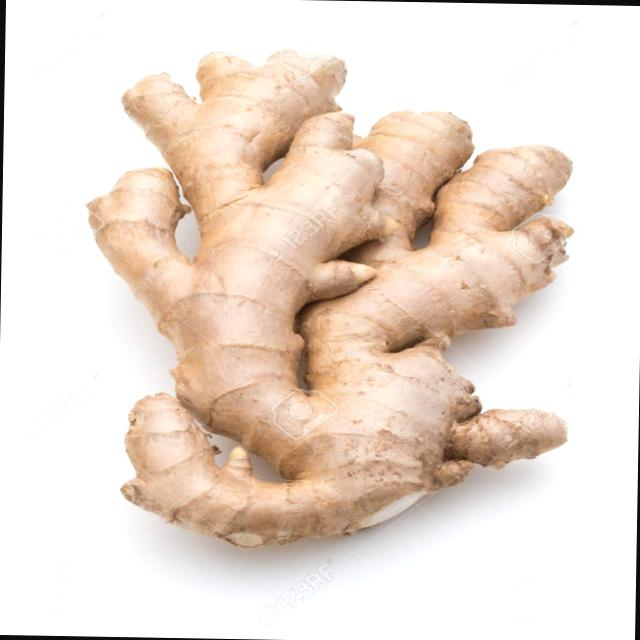ginger-root: (39, 39, 602, 570)
